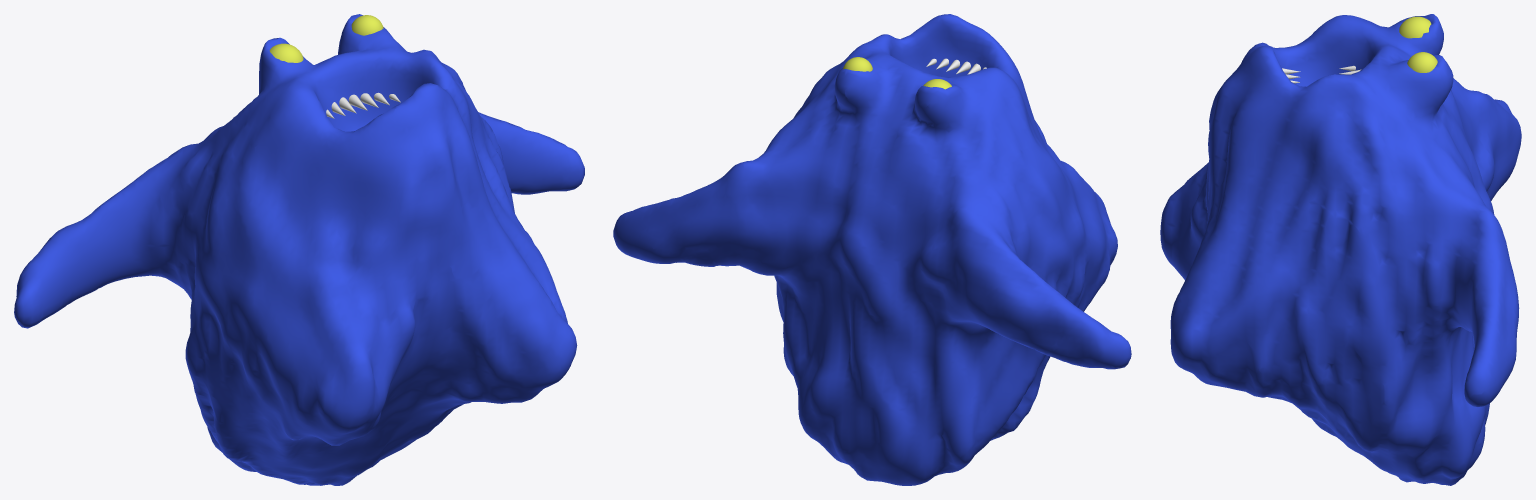
File: Bird.fbx
3 renders of one model, left to right at view 1: azimuth 30°, elevation 25°; view 2: azimuth 150°, elevation 25°; view 3: azimuth 270°, elevation 25°, orthographic. The views are drawn at different scales.
Visible parts, largest first — view 1: Bird; view 2: Bird; view 3: Bird.
Part boxes in pixels (x1=…): Bird: x1=14, y1=14, x2=584, y2=485; Bird: x1=613, y1=14, x2=1131, y2=485; Bird: x1=1160, y1=14, x2=1521, y2=485.
Size of the model in its own units: 360 by 273 by 202.
